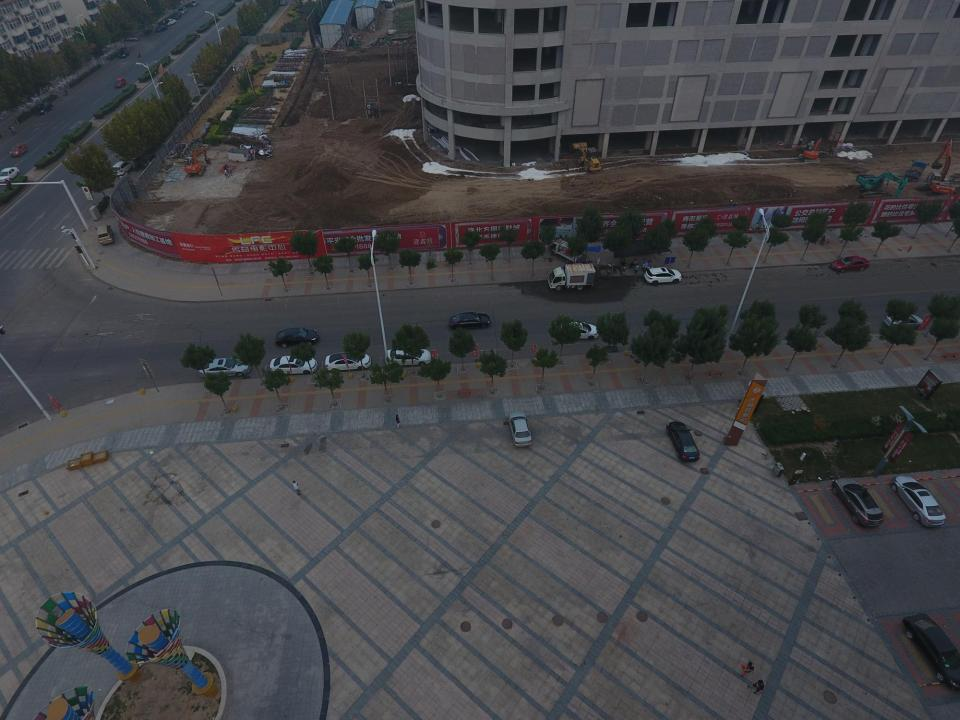car: (902, 614, 960, 690), (891, 475, 945, 527), (832, 477, 884, 526), (666, 422, 700, 463), (198, 356, 251, 377), (325, 351, 371, 373), (385, 348, 432, 368), (269, 355, 317, 374), (275, 327, 319, 347), (508, 412, 532, 448), (449, 312, 491, 330), (558, 322, 599, 340), (644, 267, 682, 285), (830, 255, 869, 272), (884, 314, 924, 330), (0, 167, 20, 183), (111, 161, 133, 175), (10, 142, 28, 156), (35, 102, 53, 114), (114, 78, 126, 87), (118, 50, 130, 58), (155, 25, 168, 32), (125, 35, 139, 41), (177, 7, 187, 14), (165, 19, 176, 25), (173, 12, 181, 19), (190, 1, 199, 6)
truck: (546, 263, 598, 291), (548, 239, 583, 263), (905, 160, 929, 182)
van: (96, 224, 114, 244), (141, 154, 156, 170)
